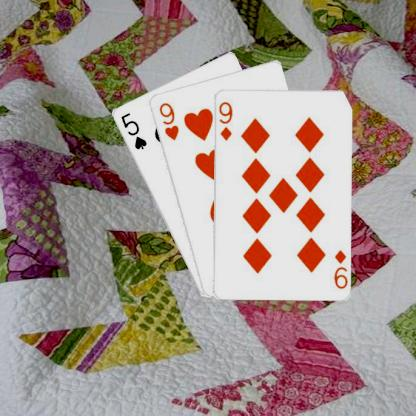5S: (118, 110, 148, 151)
9D: (216, 98, 233, 141), (331, 247, 347, 290)
9H: (156, 99, 180, 142)
